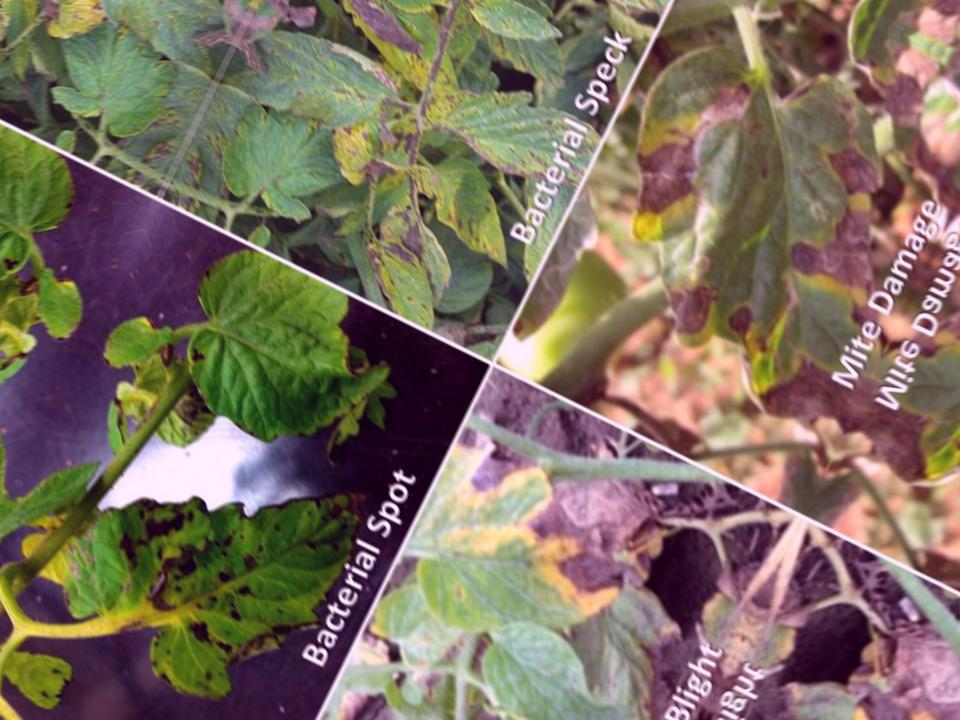Tomato Early blight leaf: (310, 419, 775, 720)
Tomato leaf bacterial spot: (39, 397, 393, 720), (143, 239, 436, 516), (387, 38, 603, 217), (214, 0, 424, 175), (273, 0, 541, 65), (494, 0, 694, 58), (436, 0, 573, 70), (346, 0, 450, 31)
